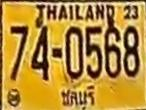0: (65, 27, 82, 78)
4: (30, 24, 48, 79)
5: (85, 26, 101, 78)
6: (104, 26, 120, 78)
7: (9, 25, 28, 82)
8: (123, 25, 139, 76)
CBI: (57, 84, 101, 110)
